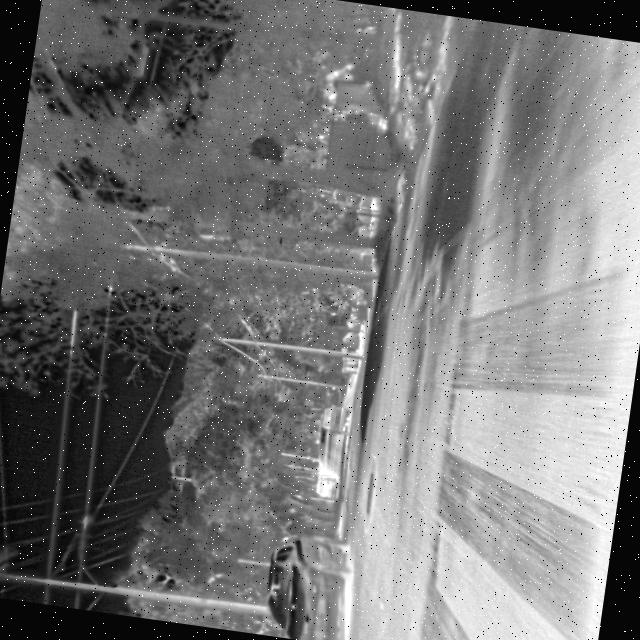Vehicle: (256, 527, 358, 640), (320, 401, 354, 436), (314, 475, 338, 500)
